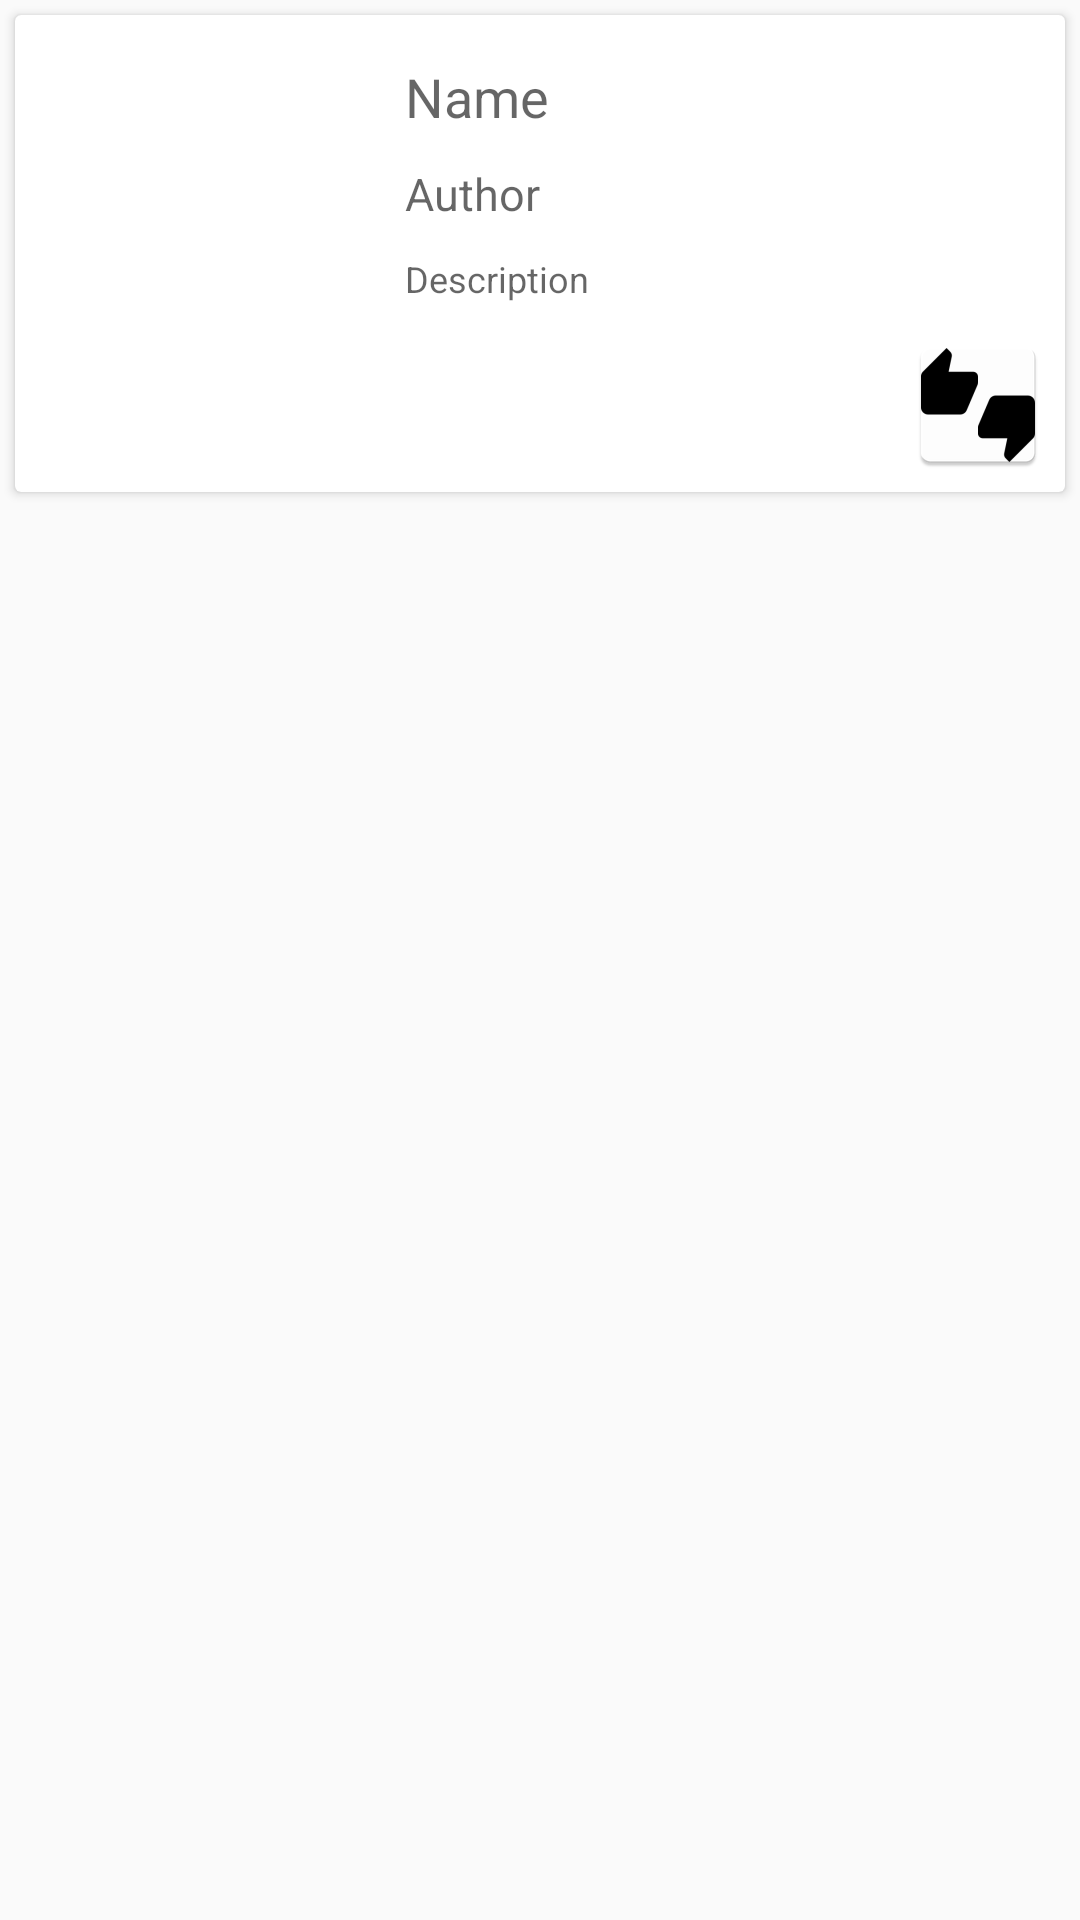

Where to tap for icons on this 1080px x 1920px app screen, as (x,y):
Rate Button: (978,407)
